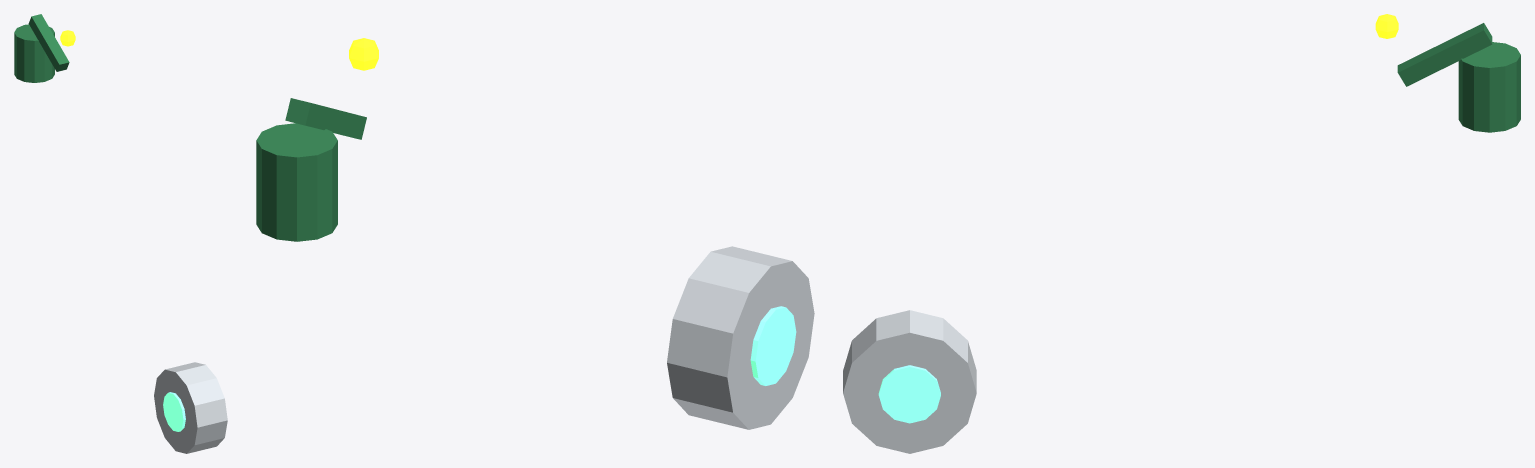
File: upgrade-fixed_squeak.glb
3 renders of one model, left to right at view 1: azimuth 30°, elevation 25°; view 2: azimuth 150°, elevation 25°; view 3: azimuth 270°, elevation 25°, orthographic. The views are drawn at different scales.
Visible parts, largest first — view 1: upgrade-fixed_squeak; view 2: upgrade-fixed_squeak; view 3: upgrade-fixed_squeak.
Part boxes in pixels (bbox=[...]): upgrade-fixed_squeak: bbox=[14, 14, 227, 453]; upgrade-fixed_squeak: bbox=[256, 38, 814, 429]; upgrade-fixed_squeak: bbox=[843, 14, 1520, 453].
Size of the model in its own units: 0.27 by 1.12 by 1.52.
